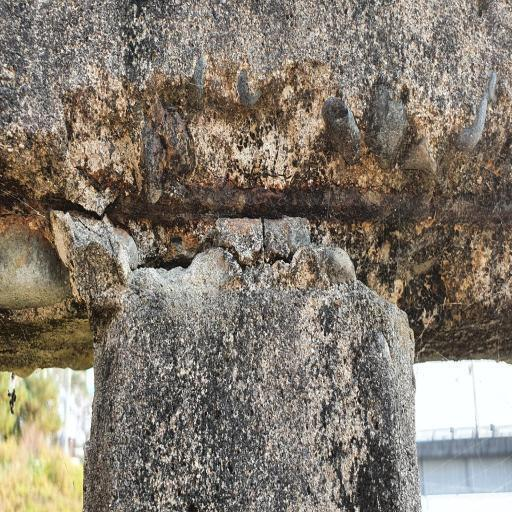exposed_rebar: (106, 181, 512, 230)
